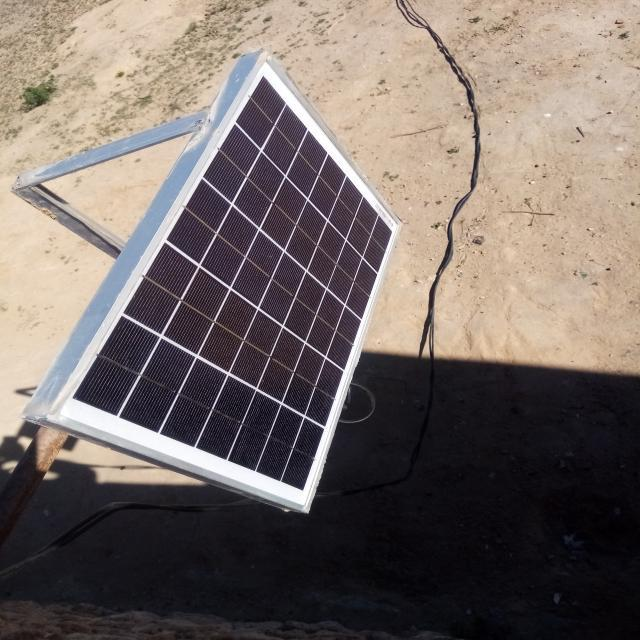no faulty: (41, 52, 402, 511)
